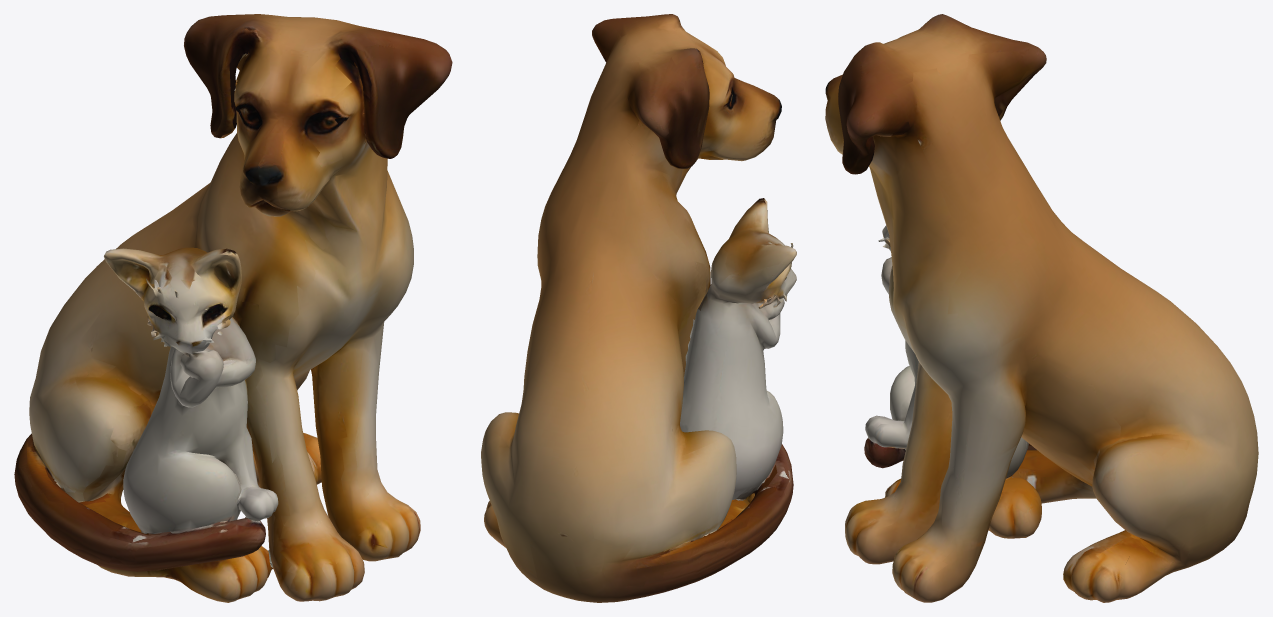
The model's file is dog_with_cat_001.glb.
3 views of the same model, side by side, from view 1: azimuth 30°, elevation 25°; view 2: azimuth 150°, elevation 25°; view 3: azimuth 270°, elevation 25° (orthographic). The views are drawn at different scales.
Parts seen in each view (by area): view 1: 6c5cd2d8-9c53-45d3-88d3-0bbe14c7c16c_texturing.obj; view 2: 6c5cd2d8-9c53-45d3-88d3-0bbe14c7c16c_texturing.obj; view 3: 6c5cd2d8-9c53-45d3-88d3-0bbe14c7c16c_texturing.obj.
Boxes of the visible parts, x1=… form: 6c5cd2d8-9c53-45d3-88d3-0bbe14c7c16c_texturing.obj: x1=14, y1=14, x2=452, y2=602; 6c5cd2d8-9c53-45d3-88d3-0bbe14c7c16c_texturing.obj: x1=481, y1=14, x2=796, y2=602; 6c5cd2d8-9c53-45d3-88d3-0bbe14c7c16c_texturing.obj: x1=825, y1=14, x2=1258, y2=602.
Bounding box in the file's own units: 0.5828 × 1 × 0.7556.
Materials: 1 (1 with a texture image).
